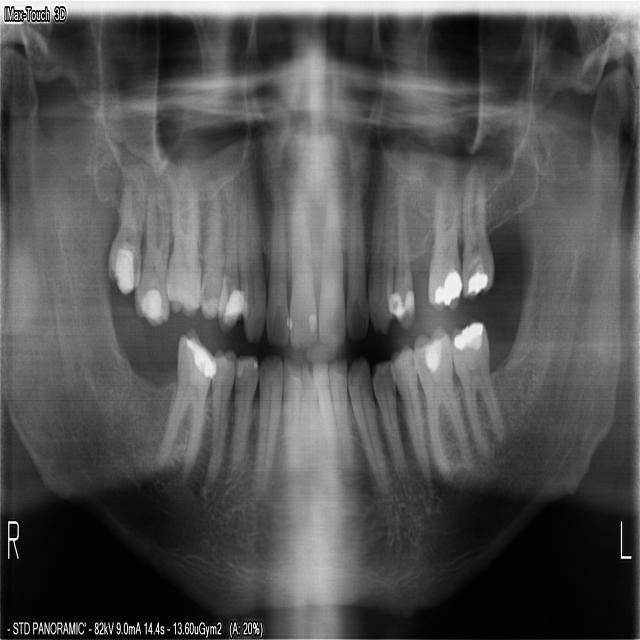LCD: (343, 350, 395, 503)
LCU: (365, 133, 397, 338)
LIU: (315, 165, 346, 350), (344, 163, 368, 341)
LMD: (410, 317, 474, 486), (448, 310, 505, 464)
LMU: (458, 150, 497, 307), (425, 151, 462, 315)
LPMD: (388, 337, 432, 484), (369, 355, 411, 492)
LPMU: (382, 150, 415, 335)
RCD: (222, 350, 258, 491)
RCU: (233, 144, 266, 349)
RID: (245, 347, 281, 505), (279, 352, 301, 489)
RIU: (286, 167, 318, 355), (263, 163, 289, 353)
RMD: (149, 319, 216, 486)
RMU: (162, 153, 205, 322), (130, 175, 170, 333), (103, 171, 145, 300)
RPMD: (196, 342, 237, 497)
RPMU: (213, 154, 249, 341), (196, 158, 228, 323)
